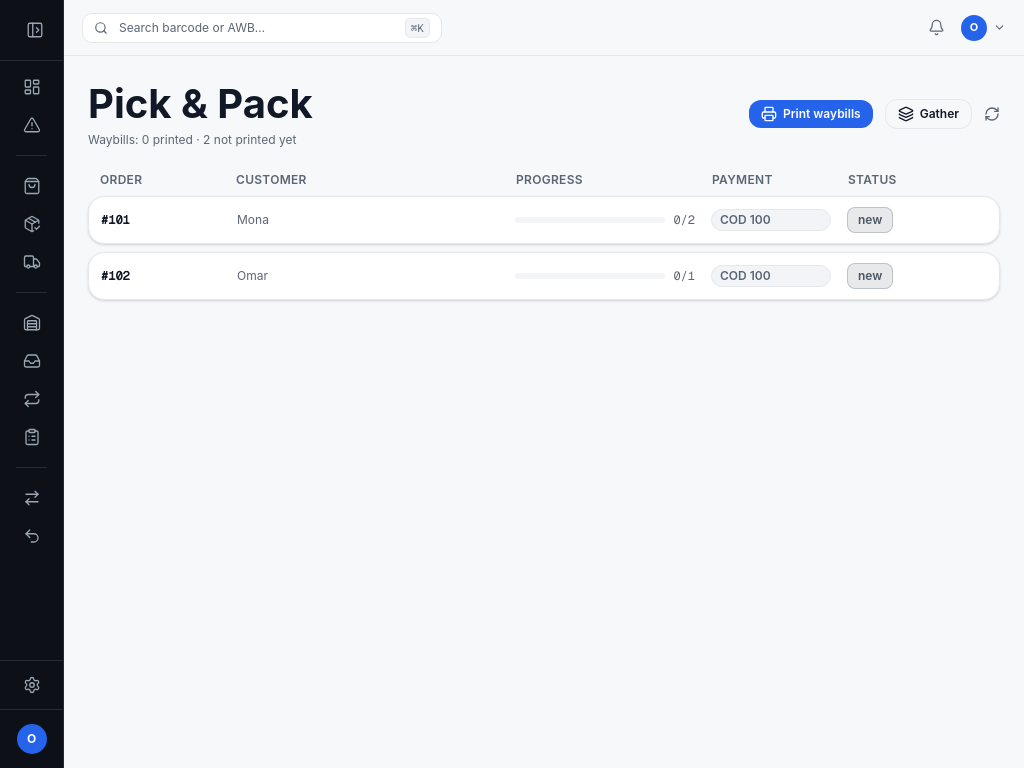
Test: B — one Print in Pick & Pack › pp1 — switch off: "Print waybills" and its dialog, as before
Click the button "Print waybills".
click(811, 114)  # box [749, 100, 873, 128]
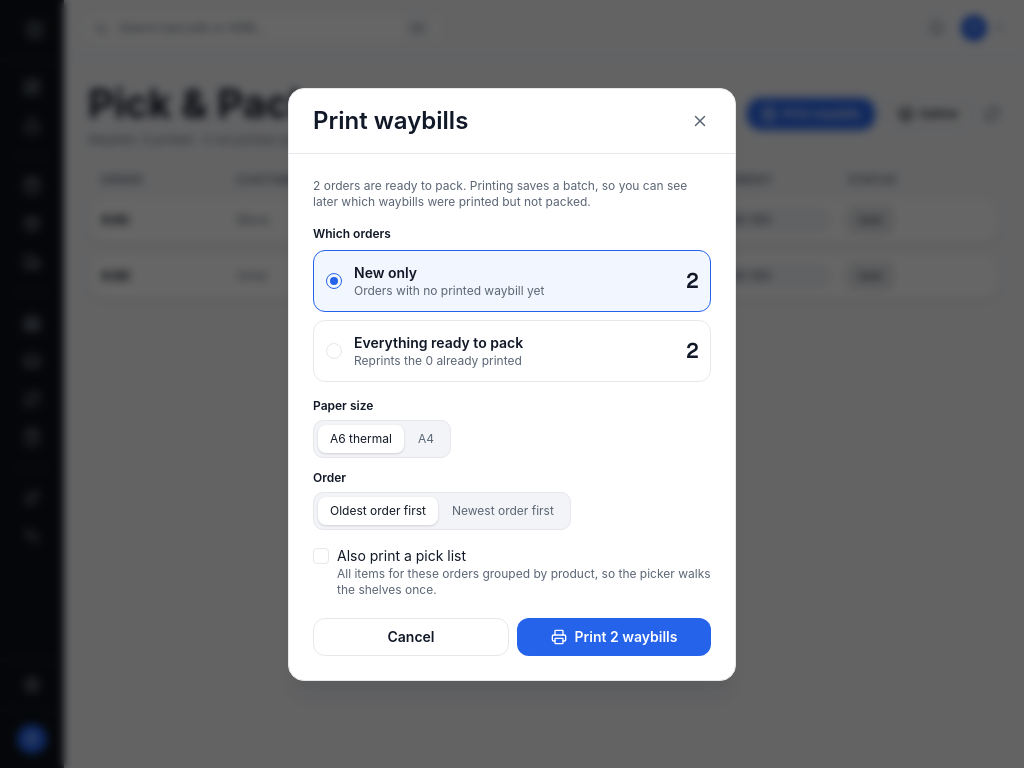
Now the element with test id "print-batch-dialog" is shown, box [313, 178, 711, 656]
